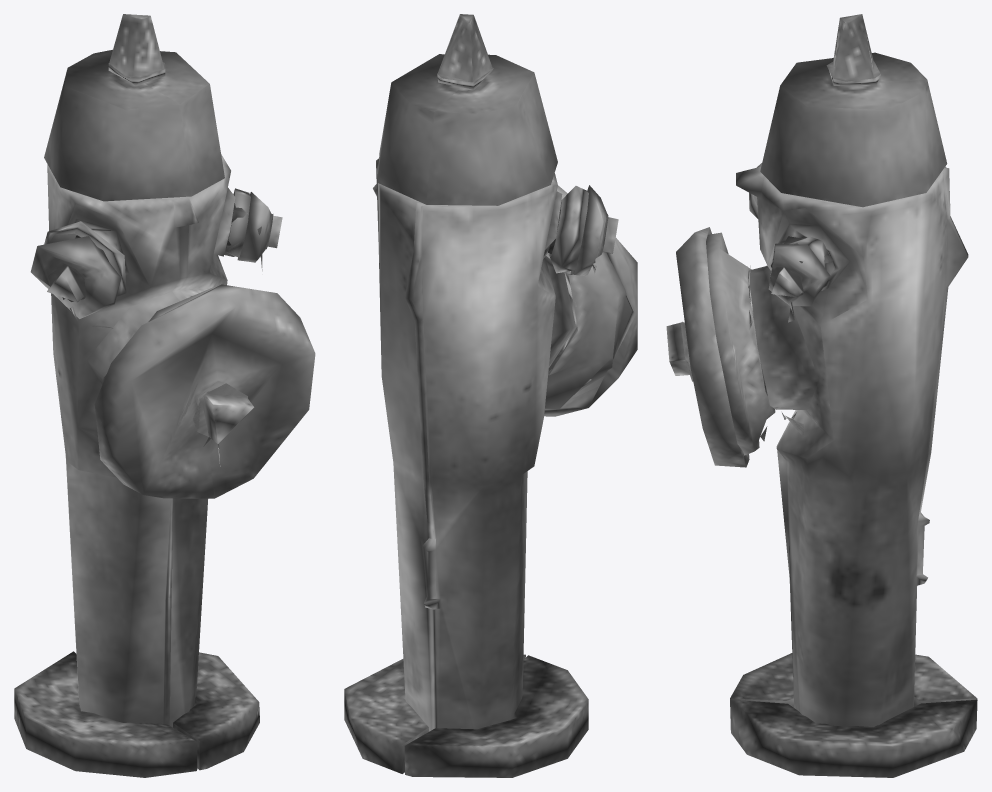
Rendered from fire_hydrant.glb.
The picture shows the model from 3 angles, left to right: view 1: azimuth 30°, elevation 25°; view 2: azimuth 150°, elevation 25°; view 3: azimuth 270°, elevation 25°; orthographic projection.
Parts seen in each view (by area): view 1: fire_hydrant_aged; view 2: fire_hydrant_aged; view 3: fire_hydrant_aged.
Boxes of the visible parts, x1,y1,x2,y2 form: fire_hydrant_aged: [14, 14, 315, 777]; fire_hydrant_aged: [344, 14, 637, 777]; fire_hydrant_aged: [666, 14, 977, 777].
Size of the model in its own units: 0.2661 by 0.7797 by 0.3096.
Materials: 1 (1 with a texture image).
